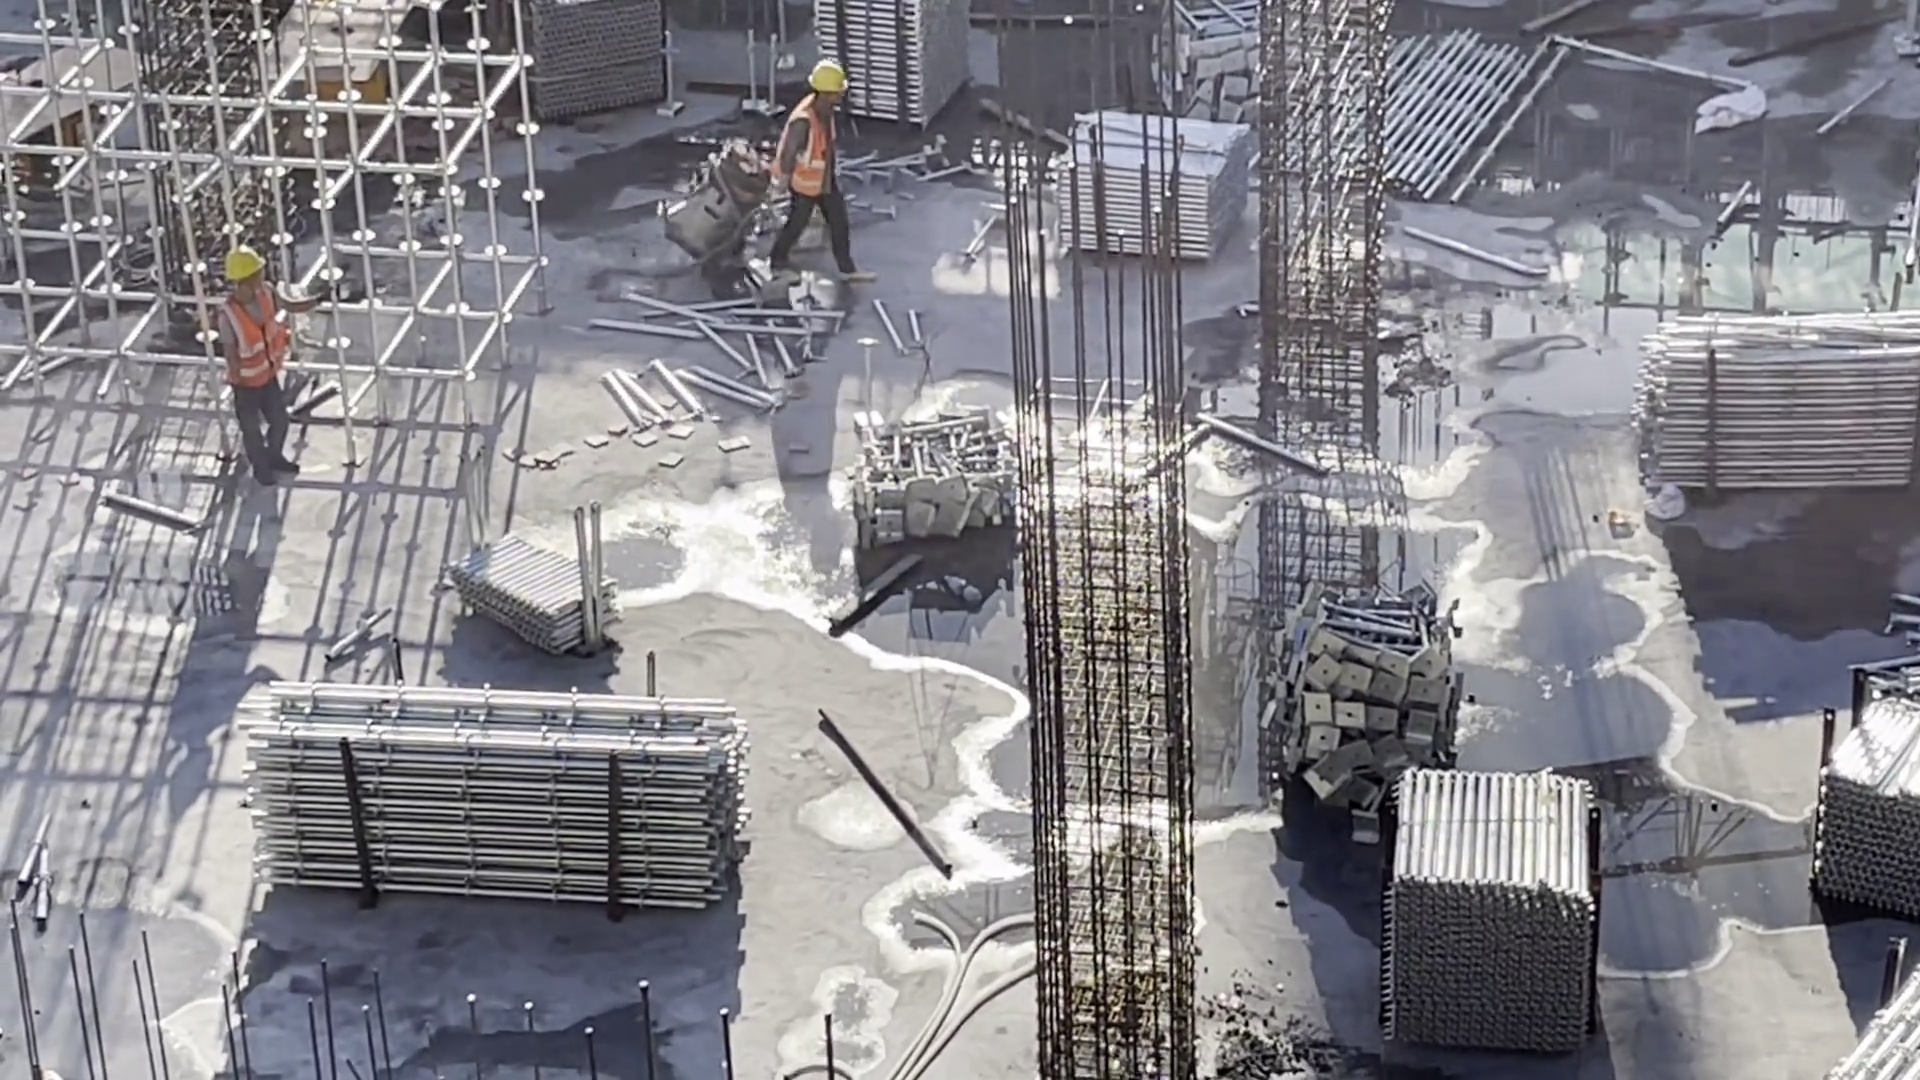cutter: (1, 32, 188, 205), (251, 2, 438, 143)
helmet: (223, 234, 270, 282), (808, 53, 851, 95)
person: (203, 235, 332, 479), (774, 54, 891, 286)
scaffold: (230, 669, 724, 918), (1377, 755, 1614, 1064), (1645, 317, 1910, 488), (1268, 602, 1457, 838), (1338, 47, 1580, 199), (1061, 113, 1263, 274), (1790, 687, 1920, 905), (857, 421, 1048, 560), (438, 531, 642, 655), (481, 1, 660, 140), (807, 2, 967, 132), (1163, 1, 1293, 135), (1809, 957, 1918, 1080)
vest: (219, 292, 298, 387), (781, 101, 844, 203)
